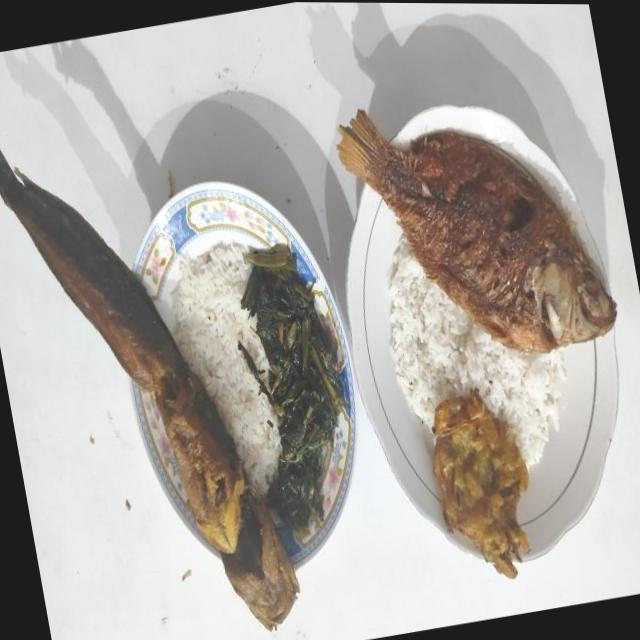ikan_mujair: (337, 110, 616, 352)
nasi_putih: (388, 238, 566, 466), (172, 243, 282, 494)
tumis_kangkung: (238, 243, 348, 530)
